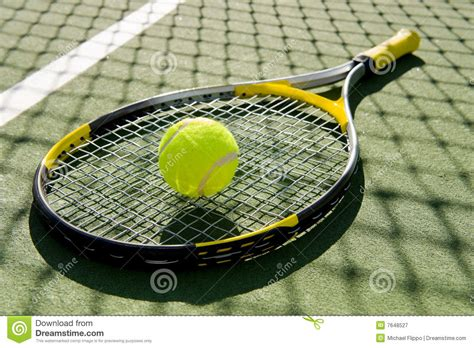tennis_ball: (157, 116, 239, 199)
